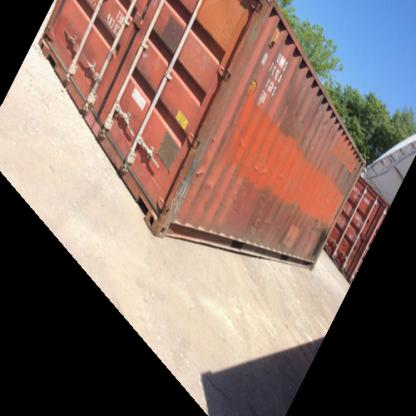Damage: (278, 92, 316, 130), (304, 212, 327, 258), (240, 208, 269, 235), (270, 233, 300, 256), (196, 163, 216, 196), (246, 156, 272, 177), (332, 159, 350, 184), (231, 132, 244, 162)
